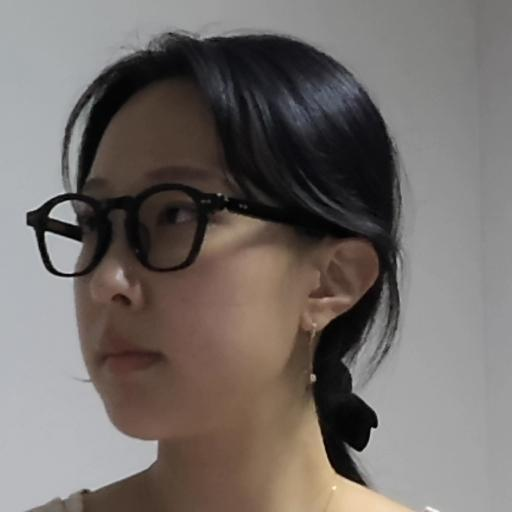no_glasses: (24, 26, 413, 457)
